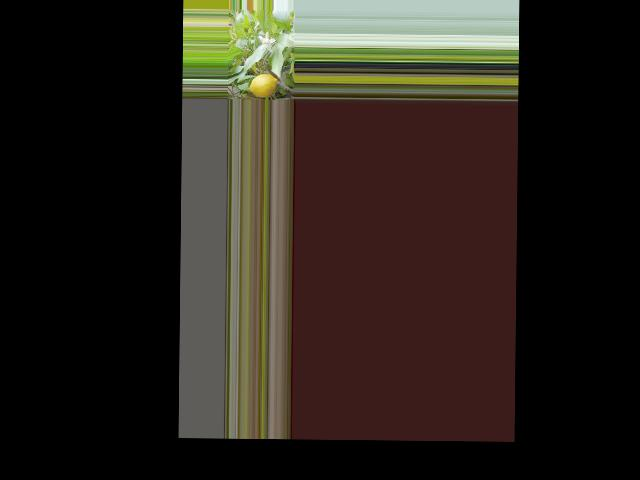lemon: (248, 70, 279, 98)
